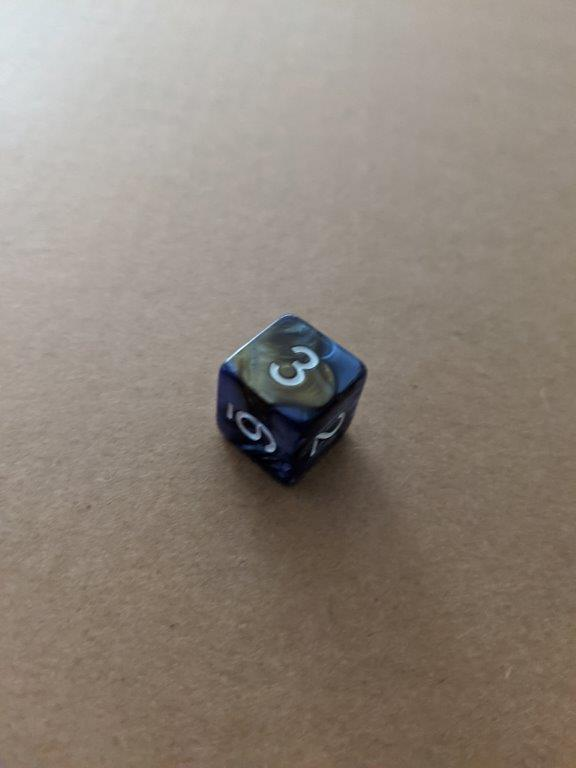d6-3: (212, 313, 372, 489)
